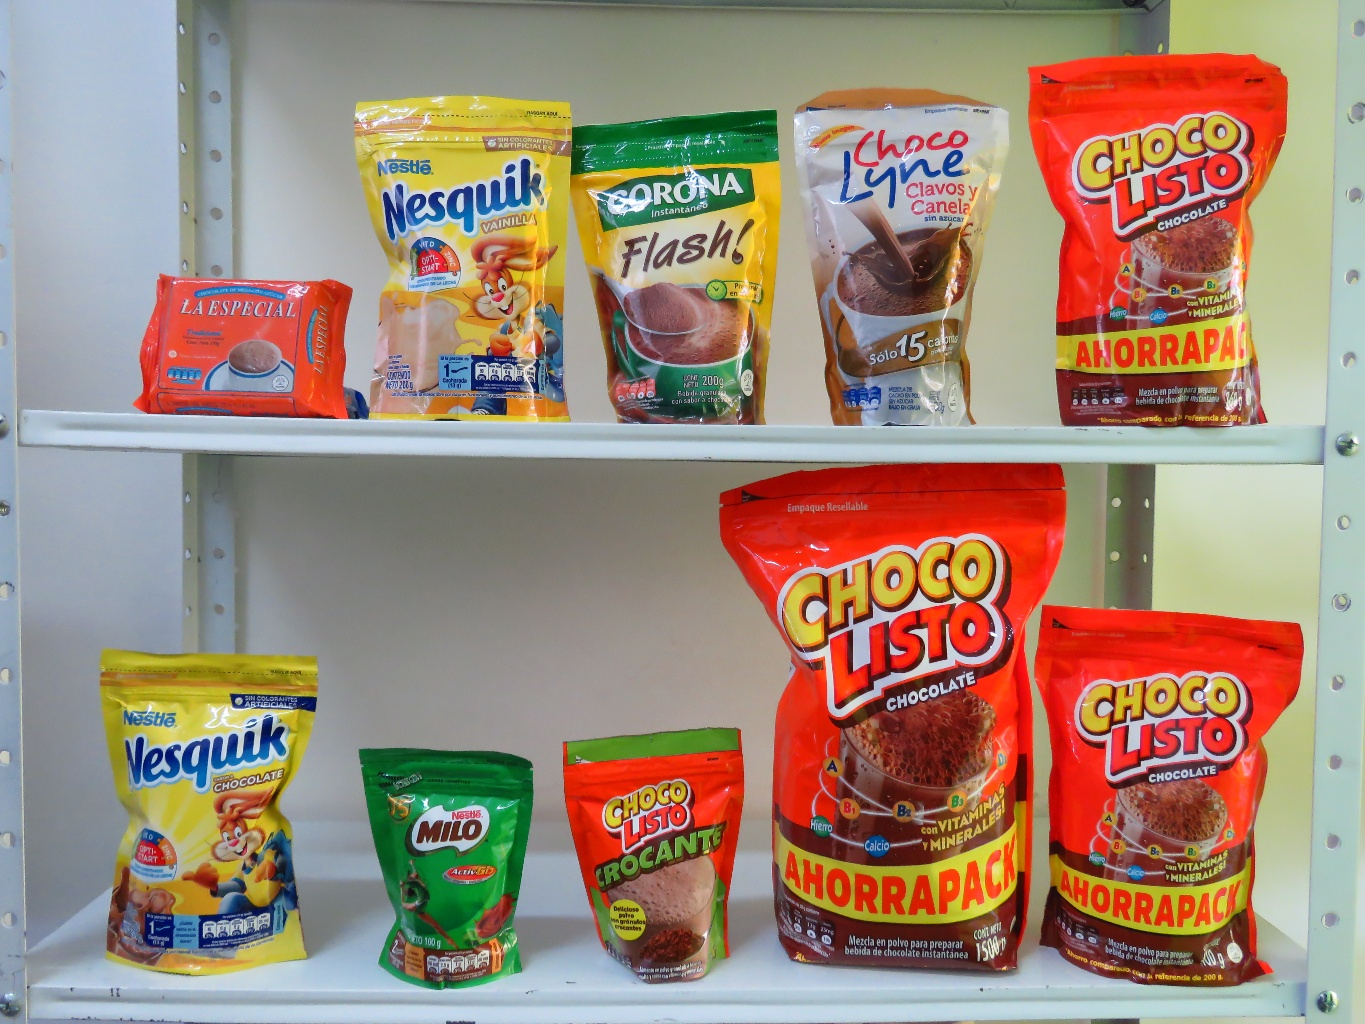COL0170102DYP10000: (560, 723, 767, 979)
COL0170103DYP1,500: (716, 449, 1087, 987)
COL0170103DYP36000: (1024, 40, 1291, 435)
COL0170103DYP40000: (1039, 605, 1316, 1001)
COL0170203DYP10000: (356, 739, 565, 995)
COL0170303DYP20000: (93, 638, 349, 983)
COL0170306DYP20000: (353, 91, 581, 426)
